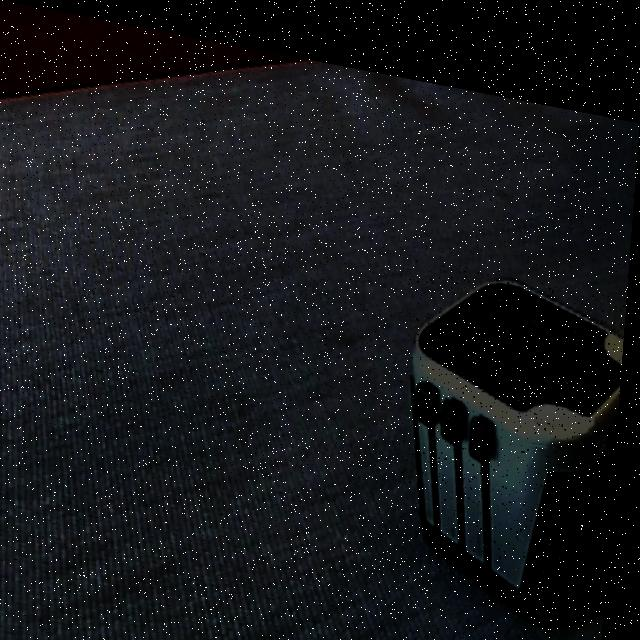adapter: (399, 240, 630, 609)
